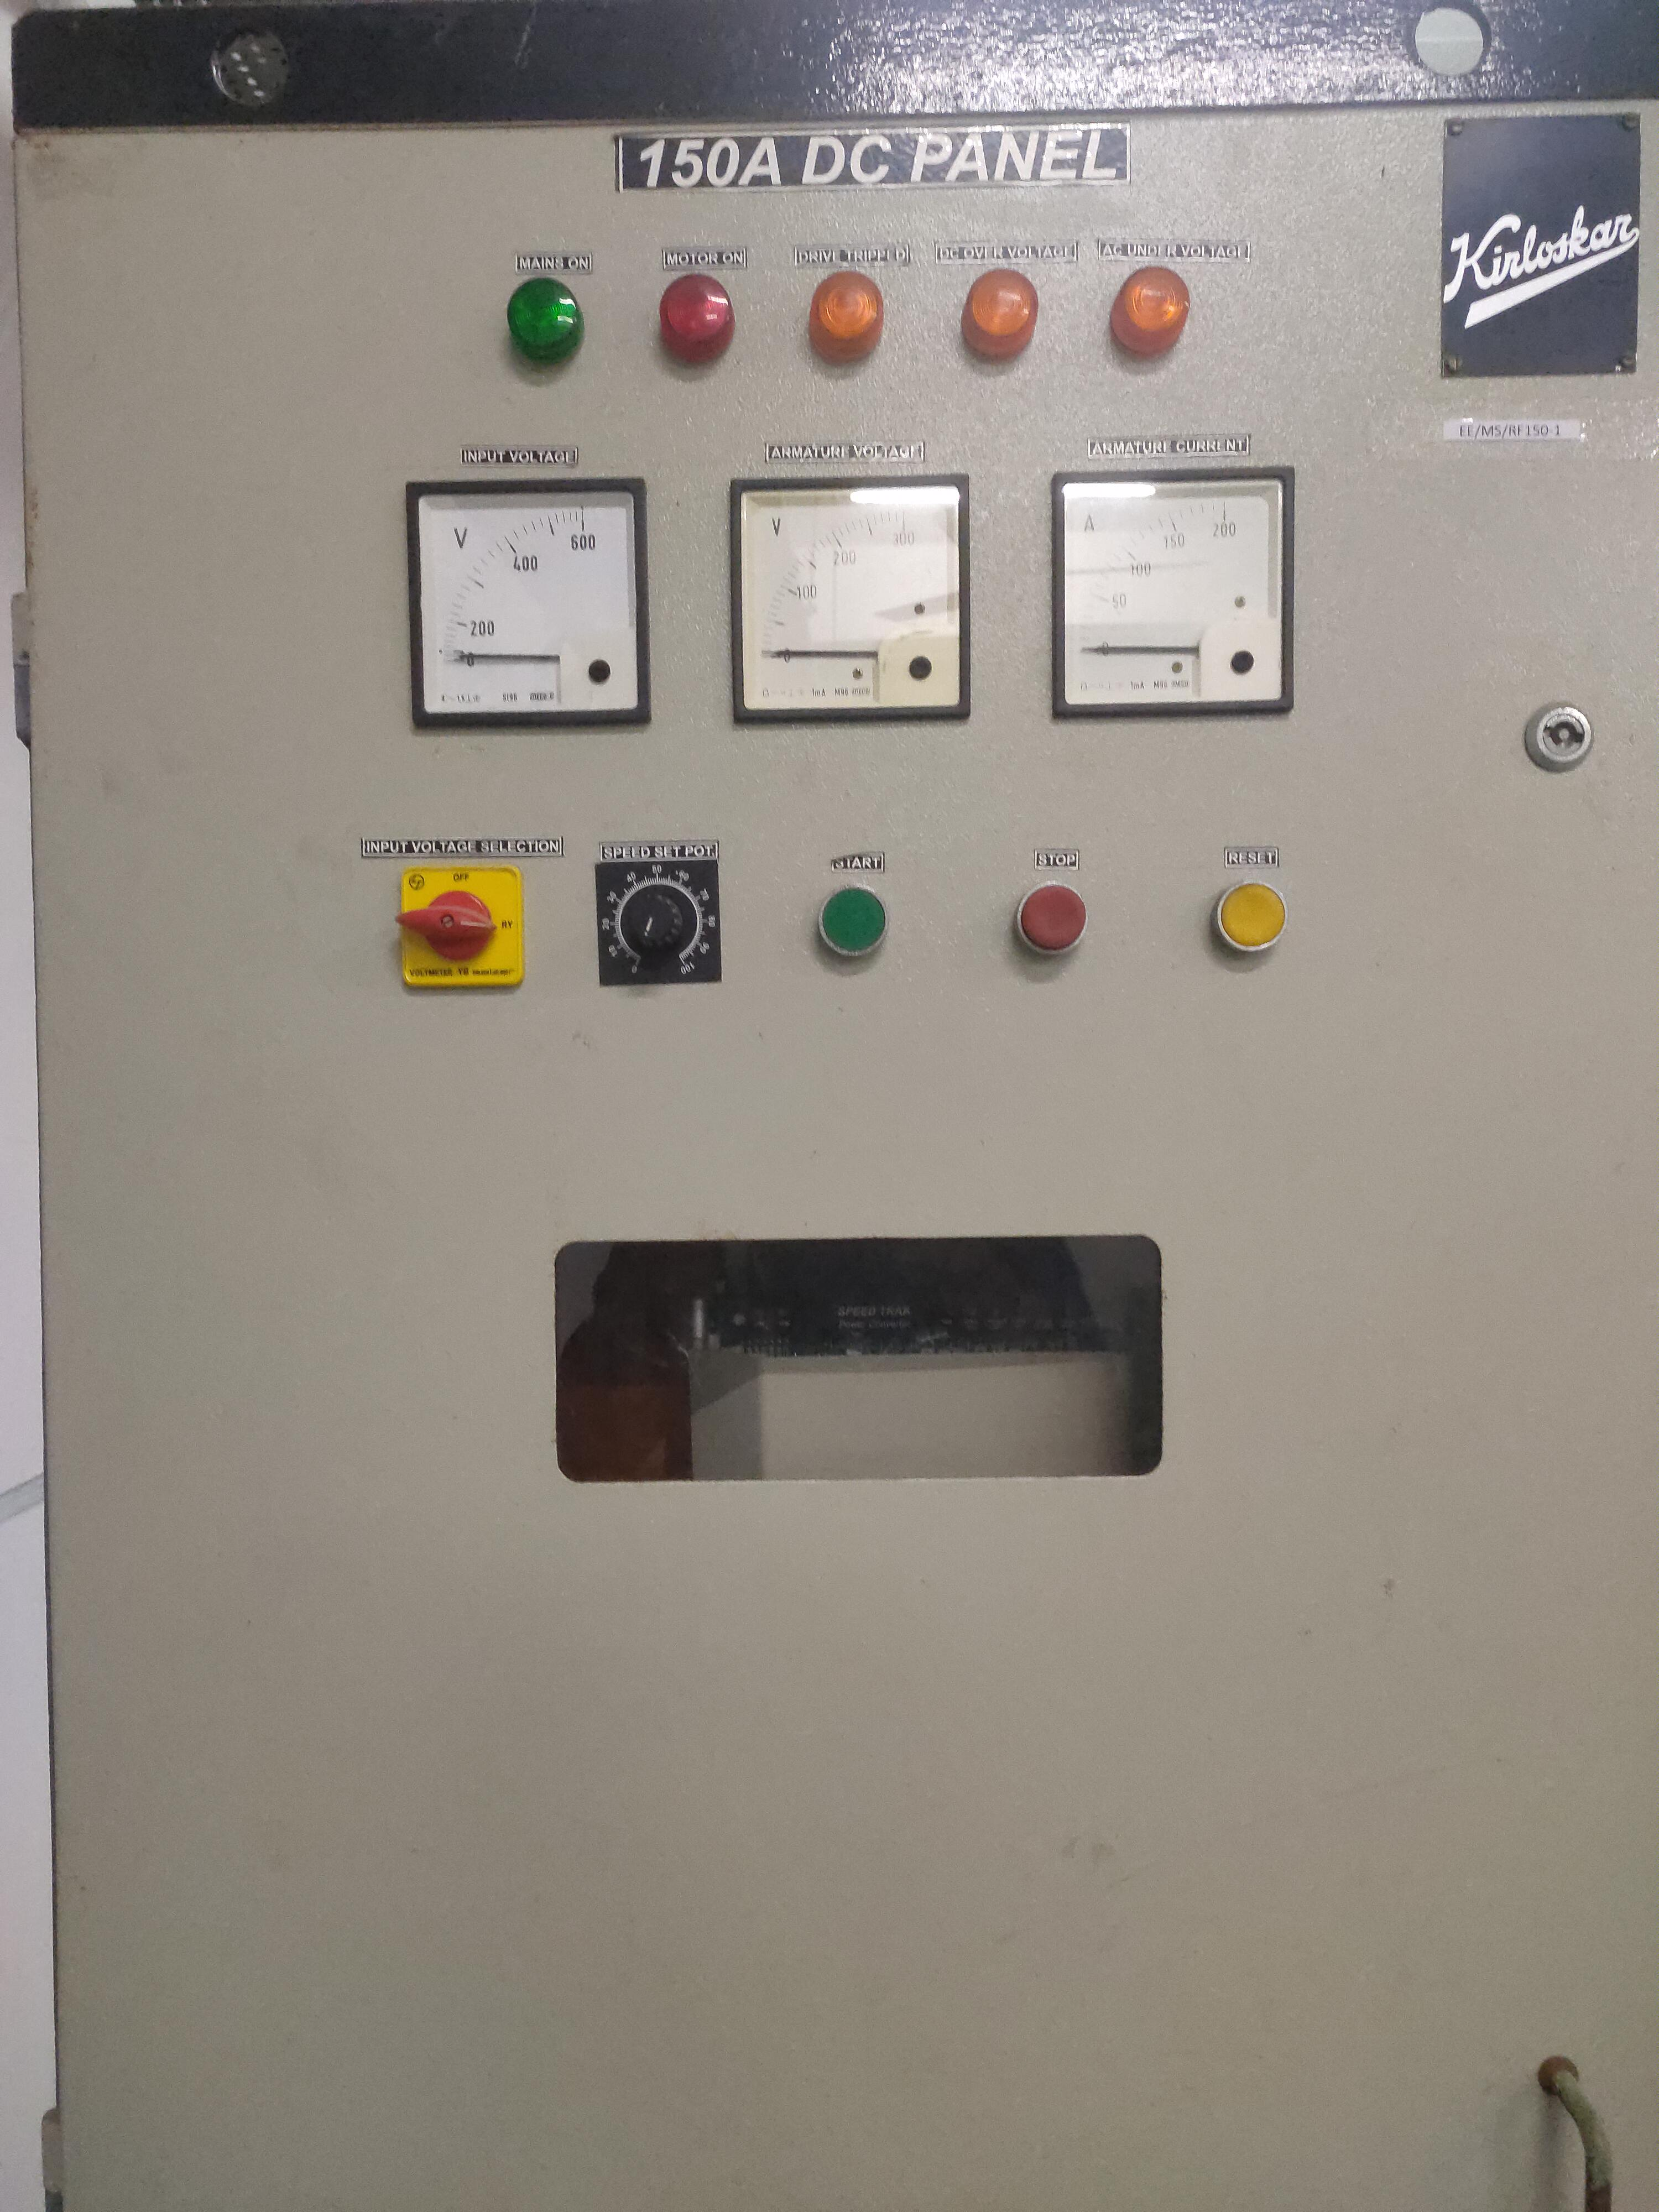Light Indications: (481, 225, 1230, 427)
